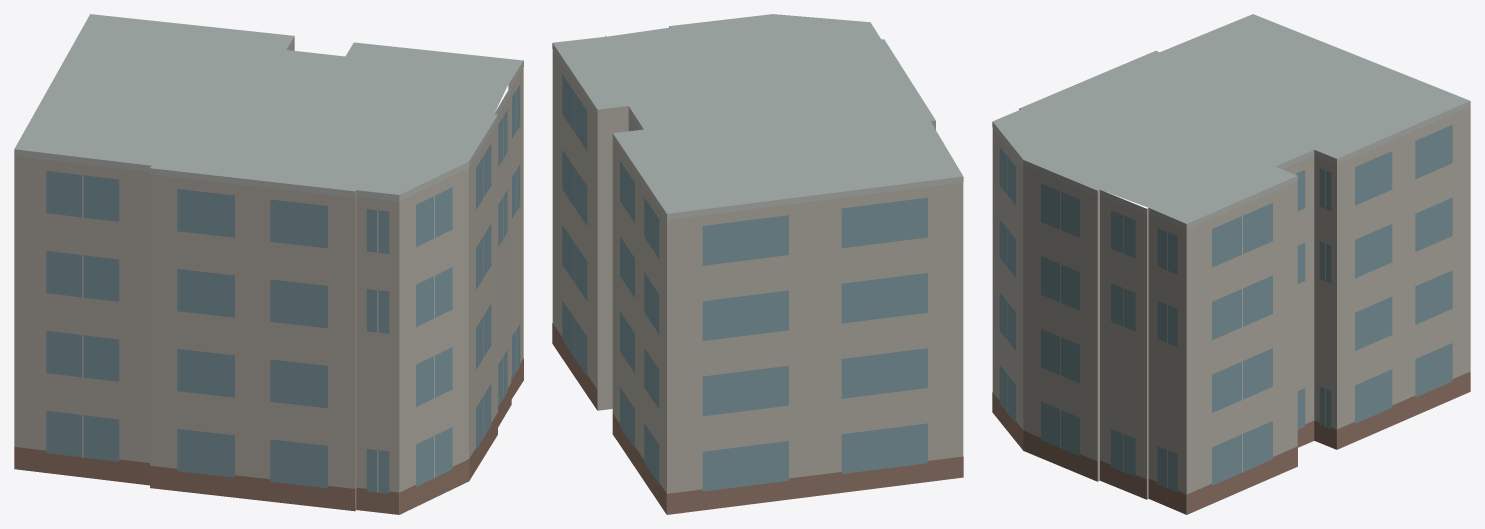
The model's file is survey-upis-32665409.glb.
The picture shows the model from 3 angles, left to right: view 1: azimuth 30°, elevation 25°; view 2: azimuth 150°, elevation 25°; view 3: azimuth 270°, elevation 25°; orthographic projection. The views are drawn at different scales.
Visible parts, largest first — view 1: survey-upis-32665409.tmp; view 2: survey-upis-32665409.tmp; view 3: survey-upis-32665409.tmp.
Boxes of the visible parts, <box> form: survey-upis-32665409.tmp: <box>14,14,523,514</box>; survey-upis-32665409.tmp: <box>552,14,963,514</box>; survey-upis-32665409.tmp: <box>992,14,1470,514</box>.
Size of the model in its own units: 18.9 by 12.2 by 18.18.
